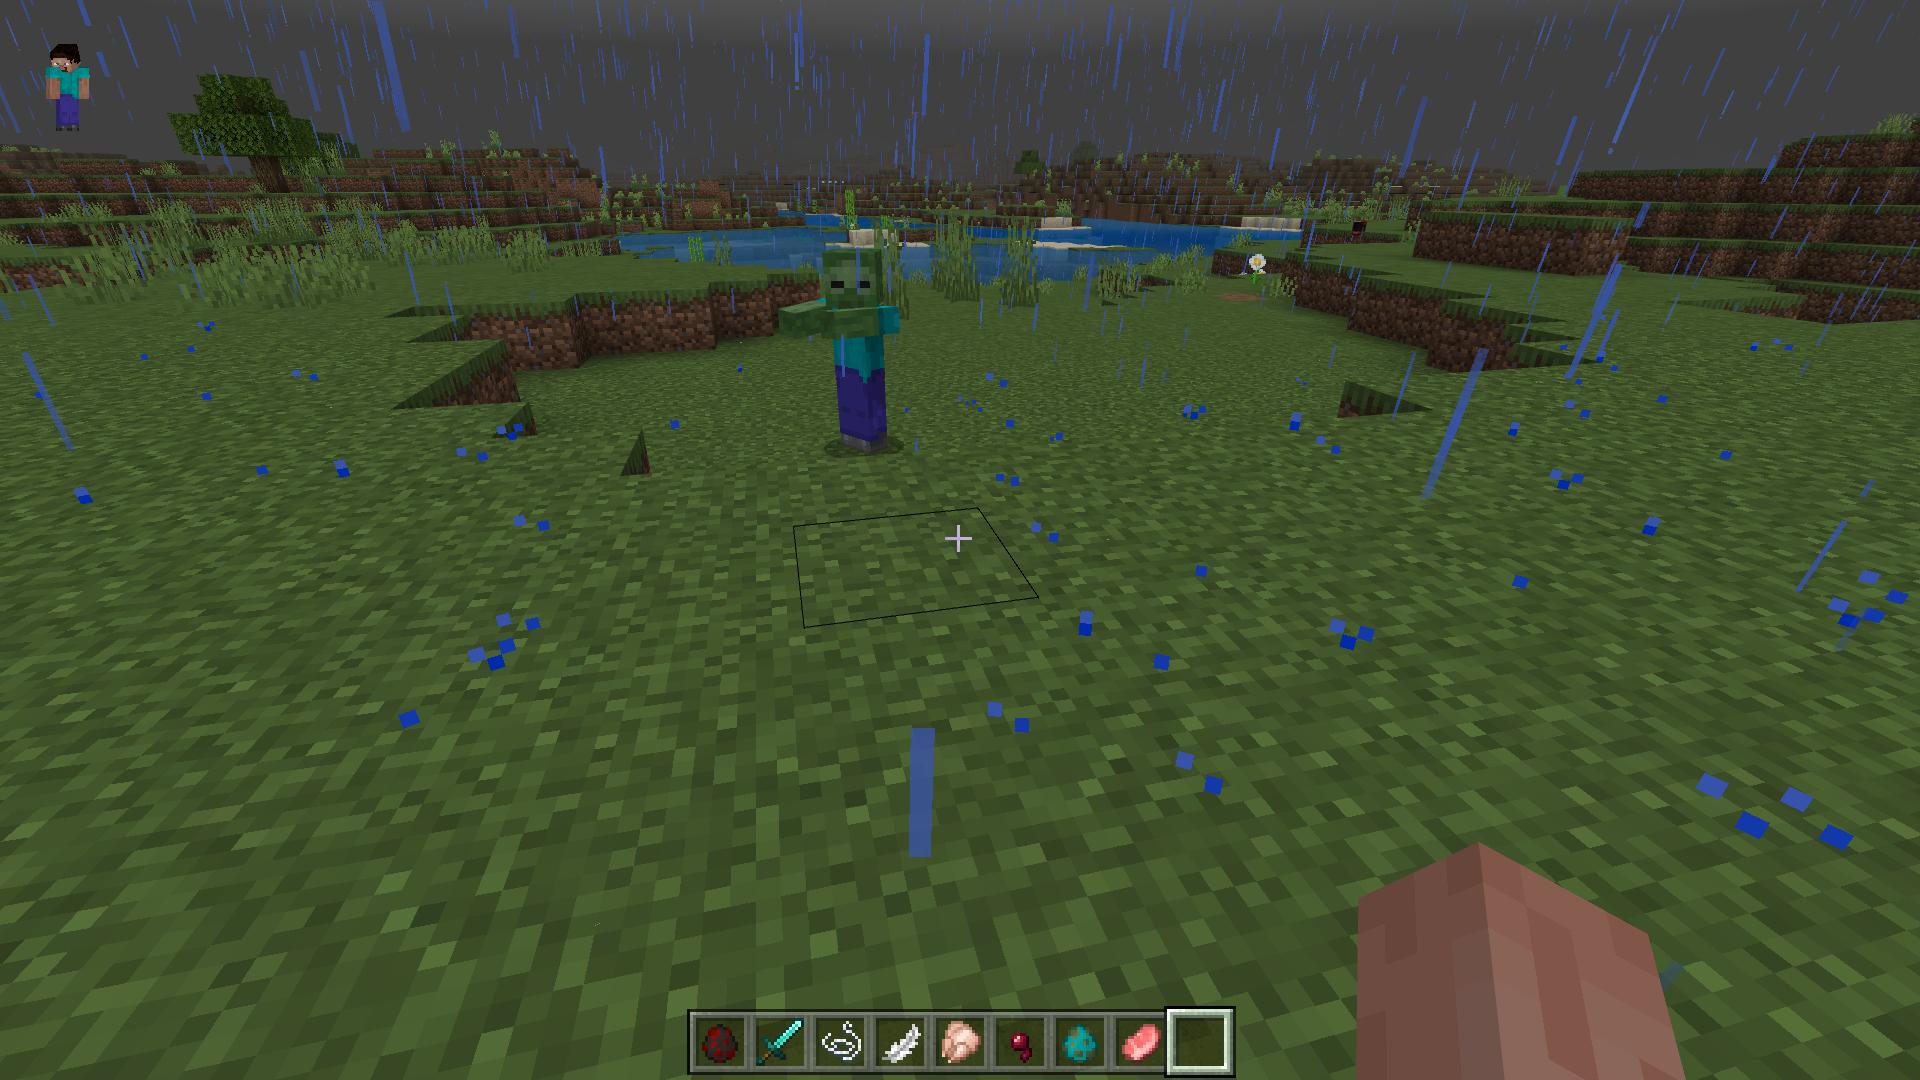zombie: (787, 245, 907, 454)
